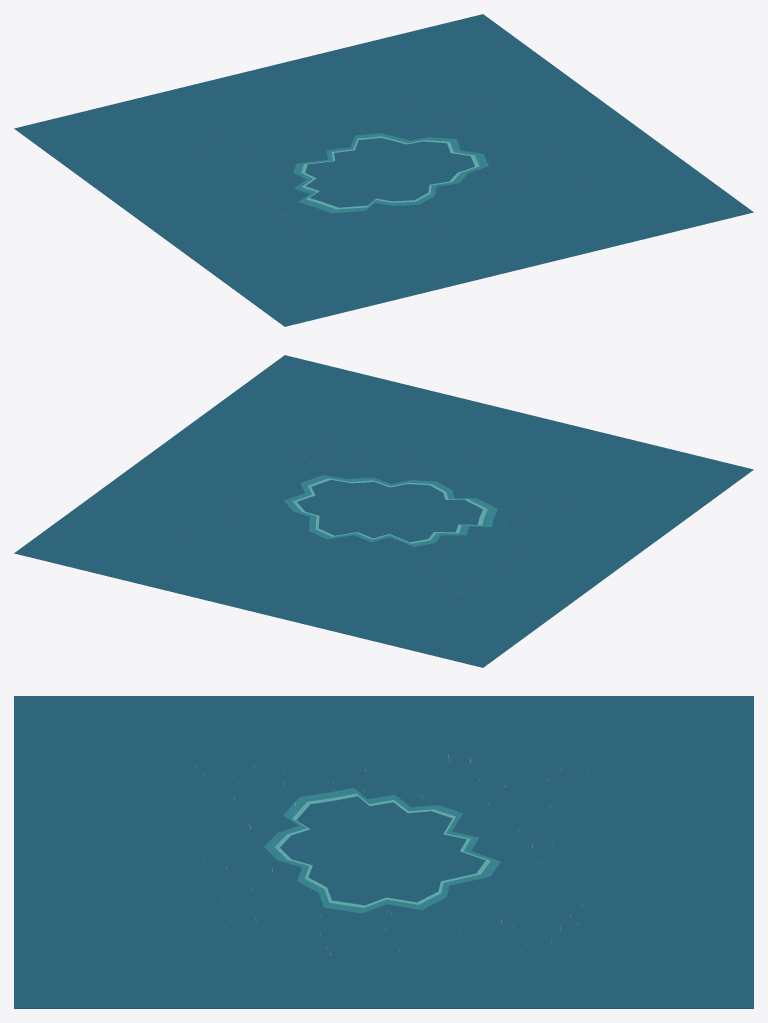
File: env_ocean.glb
3 views of the same model, one above another, from view 1: azimuth 30°, elevation 25°; view 2: azimuth 150°, elevation 25°; view 3: azimuth 270°, elevation 25° (orthographic). The views are drawn at different scales.
Visible parts, largest first — view 1: env_ocean__Ocean_base, env_ocean__Turquoise_shallows.002; view 2: env_ocean__Ocean_base, env_ocean__Turquoise_shallows.002; view 3: env_ocean__Ocean_base, env_ocean__Turquoise_shallows.002.
Boxes of the visible parts, box(x1,y1,x2,y2) form: env_ocean__Ocean_base: box(14, 14, 753, 326); env_ocean__Turquoise_shallows.002: box(293, 133, 488, 213); env_ocean__Ocean_base: box(14, 355, 753, 667); env_ocean__Turquoise_shallows.002: box(283, 475, 497, 546); env_ocean__Ocean_base: box(14, 696, 753, 1008); env_ocean__Turquoise_shallows.002: box(264, 788, 500, 913).
Size of the model in its own units: 320 by 0.149 by 320.
